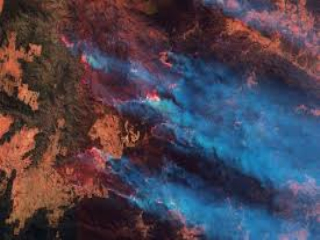smoke: (153, 68, 315, 231)
